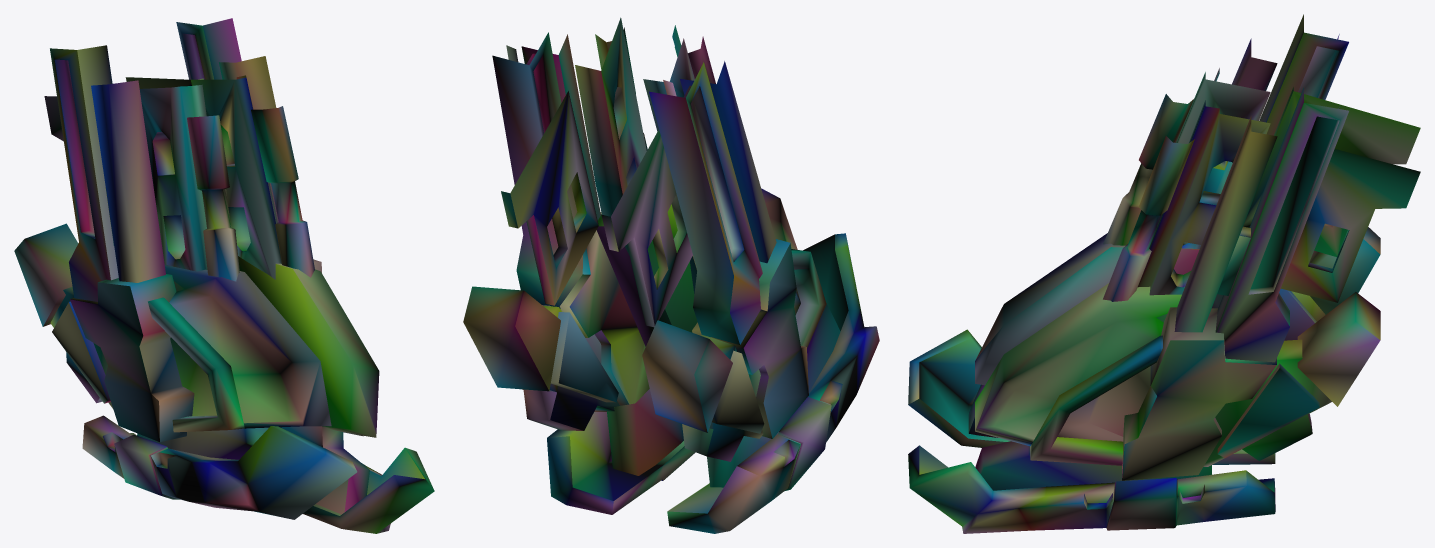
Rendered from ASE_GravCycle_Gib_Forks.gltf.
The picture shows the model from 3 angles, left to right: view 1: azimuth 30°, elevation 25°; view 2: azimuth 150°, elevation 25°; view 3: azimuth 270°, elevation 25°; orthographic projection. The views are drawn at different scales.
Visible parts, largest first — view 1: ASE_GravCycle_Gib_Forks; view 2: ASE_GravCycle_Gib_Forks; view 3: ASE_GravCycle_Gib_Forks.
Part boxes in pixels (<box>): ASE_GravCycle_Gib_Forks: <box>14,18,434,533</box>; ASE_GravCycle_Gib_Forks: <box>463,17,879,533</box>; ASE_GravCycle_Gib_Forks: <box>908,14,1420,533</box>.
Size of the model in its own units: 0.2598 by 0.4744 by 0.4987.
